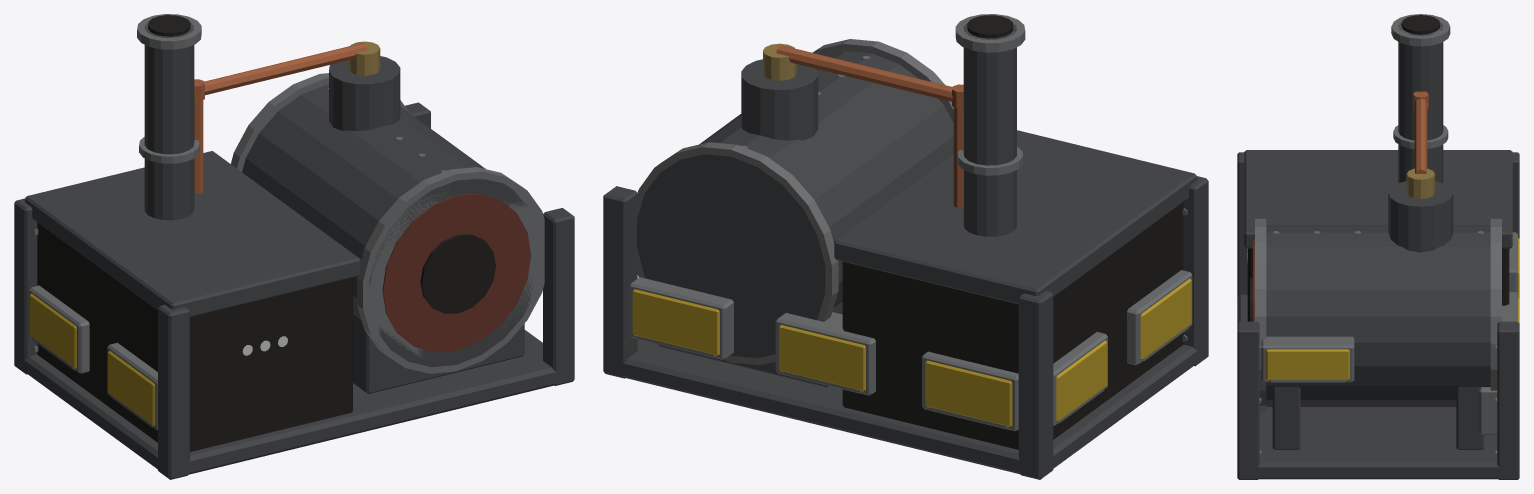
File: steam_boiler_mk1.glb
3 renders of one model, left to right at view 1: azimuth 30°, elevation 25°; view 2: azimuth 150°, elevation 25°; view 3: azimuth 270°, elevation 25°, orthographic. The views are drawn at different scales.
Visible parts, largest first — view 1: steam_boiler_mk1_CastIron, steam_boiler_mk1_Soot, steam_boiler_mk1_WeldedSteel, steam_boiler_mk1_OxideRed, steam_boiler_mk1_HazardYellow, steam_boiler_mk1_Copper, steam_boiler_mk1_DullBrass; view 2: steam_boiler_mk1_CastIron, steam_boiler_mk1_Soot, steam_boiler_mk1_WeldedSteel, steam_boiler_mk1_HazardYellow, steam_boiler_mk1_Copper, steam_boiler_mk1_DullBrass; view 3: steam_boiler_mk1_CastIron, steam_boiler_mk1_WeldedSteel, steam_boiler_mk1_HazardYellow, steam_boiler_mk1_Soot, steam_boiler_mk1_Copper, steam_boiler_mk1_DullBrass.
Boxes of the visible parts, box(x1,y1,x2,y2) form: steam_boiler_mk1_CastIron: box(14, 22, 574, 479); steam_boiler_mk1_Soot: box(37, 15, 495, 451); steam_boiler_mk1_WeldedSteel: box(29, 14, 544, 430); steam_boiler_mk1_OxideRed: box(382, 193, 531, 352); steam_boiler_mk1_HazardYellow: box(30, 293, 155, 426); steam_boiler_mk1_Copper: box(194, 43, 367, 193); steam_boiler_mk1_DullBrass: box(349, 41, 380, 75); steam_boiler_mk1_CastIron: box(603, 22, 1208, 479); steam_boiler_mk1_Soot: box(842, 15, 1183, 449); steam_boiler_mk1_WeldedSteel: box(629, 14, 1192, 431); steam_boiler_mk1_HazardYellow: box(632, 278, 1191, 427); steam_boiler_mk1_Copper: box(776, 45, 963, 208); steam_boiler_mk1_DullBrass: box(763, 43, 796, 80); steam_boiler_mk1_CastIron: box(1237, 22, 1519, 479); steam_boiler_mk1_WeldedSteel: box(1255, 14, 1517, 456); steam_boiler_mk1_HazardYellow: box(1265, 238, 1519, 380); steam_boiler_mk1_Soot: box(1247, 15, 1509, 321); steam_boiler_mk1_Copper: box(1413, 91, 1428, 173); steam_boiler_mk1_DullBrass: box(1406, 168, 1434, 198).
Size of the model in its own units: 6 by 5.05 by 4.
